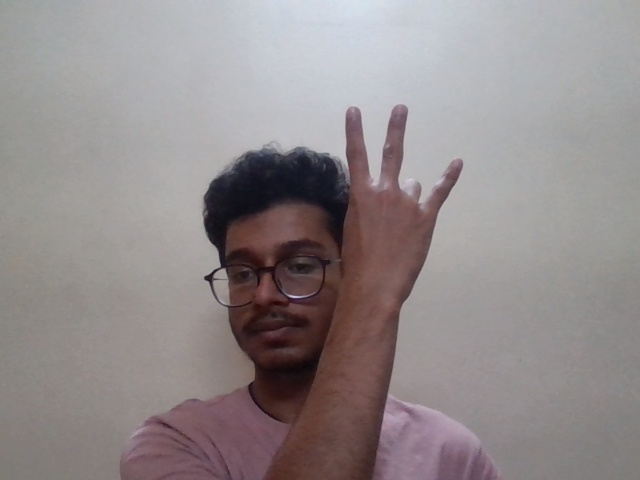why: (341, 90, 478, 262)
